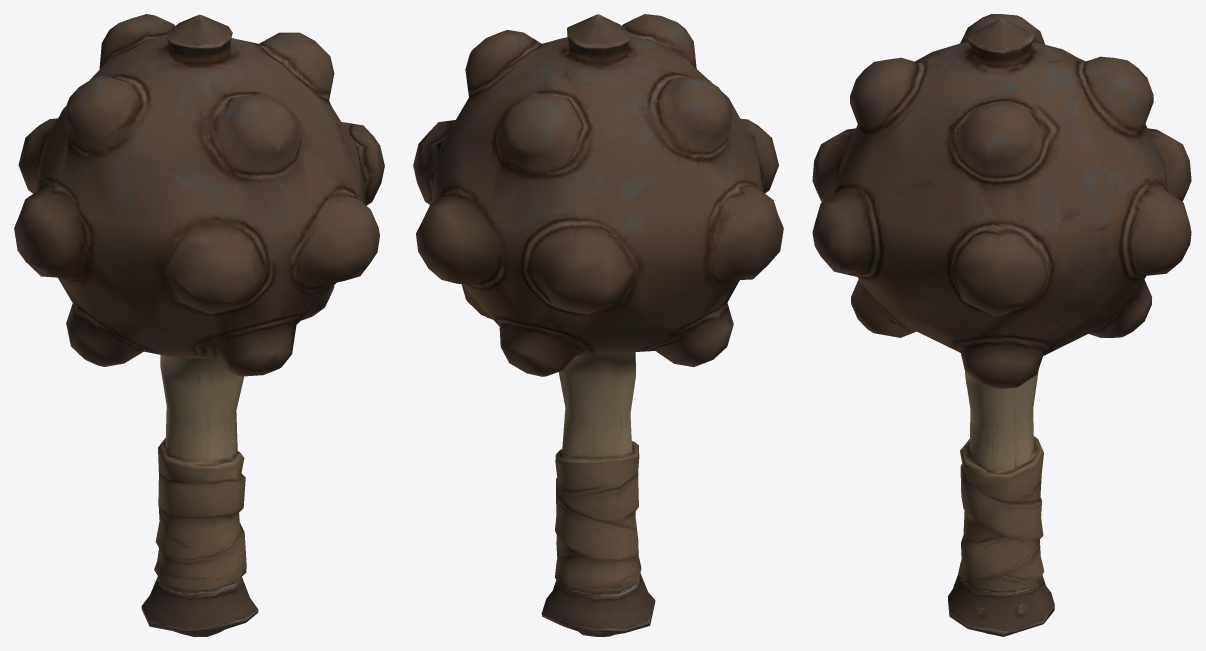
The model's file is hammer_field_iron.glb.
The picture shows the model from 3 angles, left to right: view 1: azimuth 30°, elevation 25°; view 2: azimuth 150°, elevation 25°; view 3: azimuth 270°, elevation 25°; orthographic projection.
Parts seen in each view (by area): view 1: tripo_node_8aa72e07-495f-4aa5-be46-536c9f761934; view 2: tripo_node_8aa72e07-495f-4aa5-be46-536c9f761934; view 3: tripo_node_8aa72e07-495f-4aa5-be46-536c9f761934.
Boxes of the visible parts, <box> form: tripo_node_8aa72e07-495f-4aa5-be46-536c9f761934: <box>14,14,384,636</box>; tripo_node_8aa72e07-495f-4aa5-be46-536c9f761934: <box>413,14,783,636</box>; tripo_node_8aa72e07-495f-4aa5-be46-536c9f761934: <box>812,14,1191,636</box>.
Size of the model in its own units: 0.8228 by 1.4 by 0.7914.
1 material, 1 textured.
